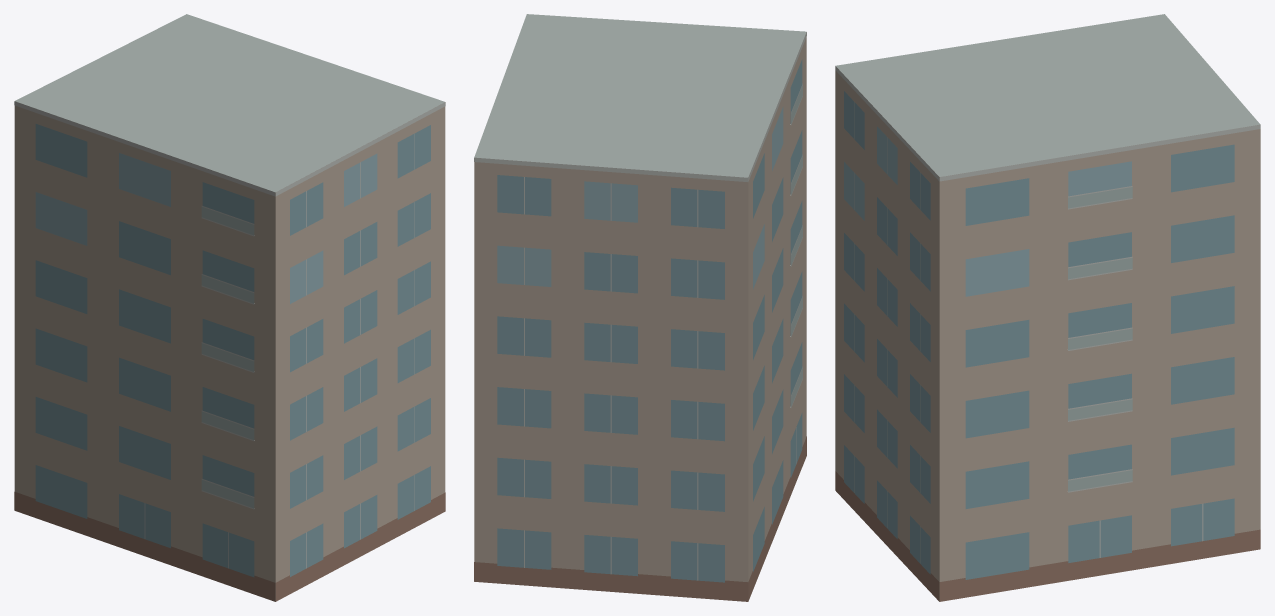
File: survey-upis-32866752.glb
3 views of the same model, side by side, from view 1: azimuth 30°, elevation 25°; view 2: azimuth 150°, elevation 25°; view 3: azimuth 270°, elevation 25° (orthographic). The views are drawn at different scales.
Visible parts, largest first — view 1: survey-upis-32866752.tmp; view 2: survey-upis-32866752.tmp; view 3: survey-upis-32866752.tmp.
Part boxes in pixels (<box>): survey-upis-32866752.tmp: <box>14,14,445,601</box>; survey-upis-32866752.tmp: <box>474,14,806,601</box>; survey-upis-32866752.tmp: <box>835,14,1260,601</box>.
Size of the model in its own units: 19.37 by 23.5 by 21.33.
